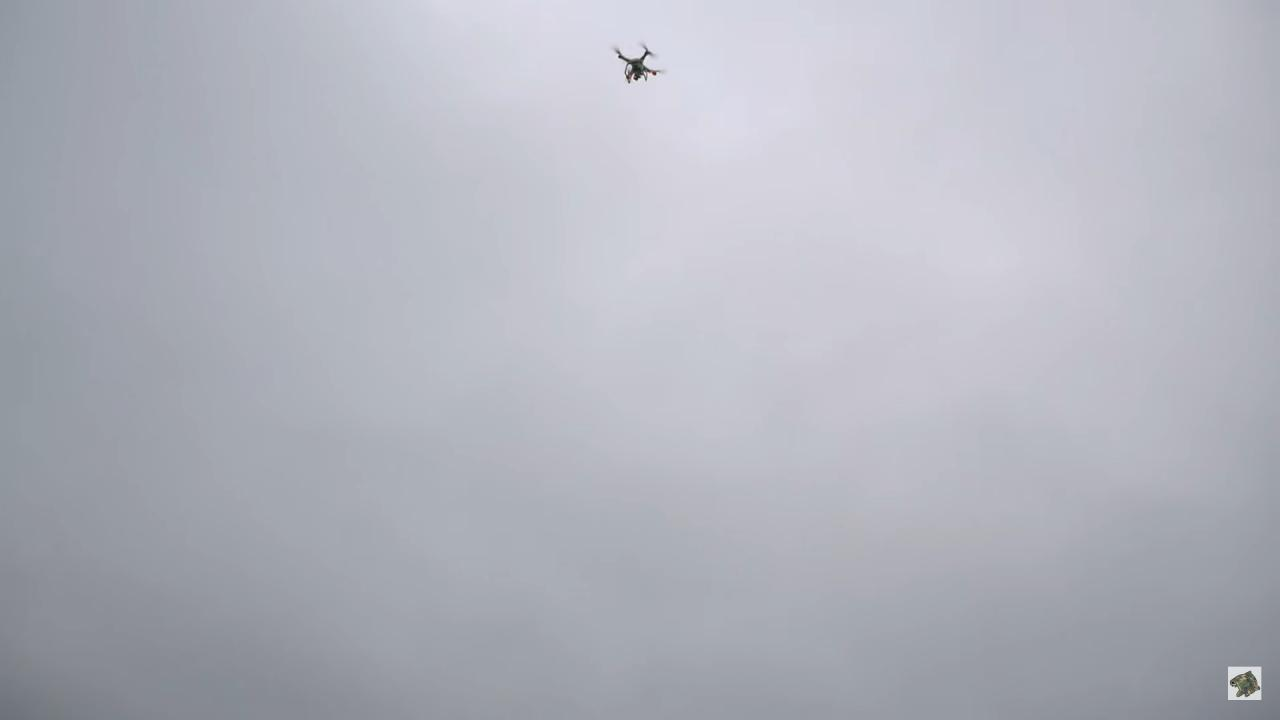Drone: (606, 33, 669, 94)
